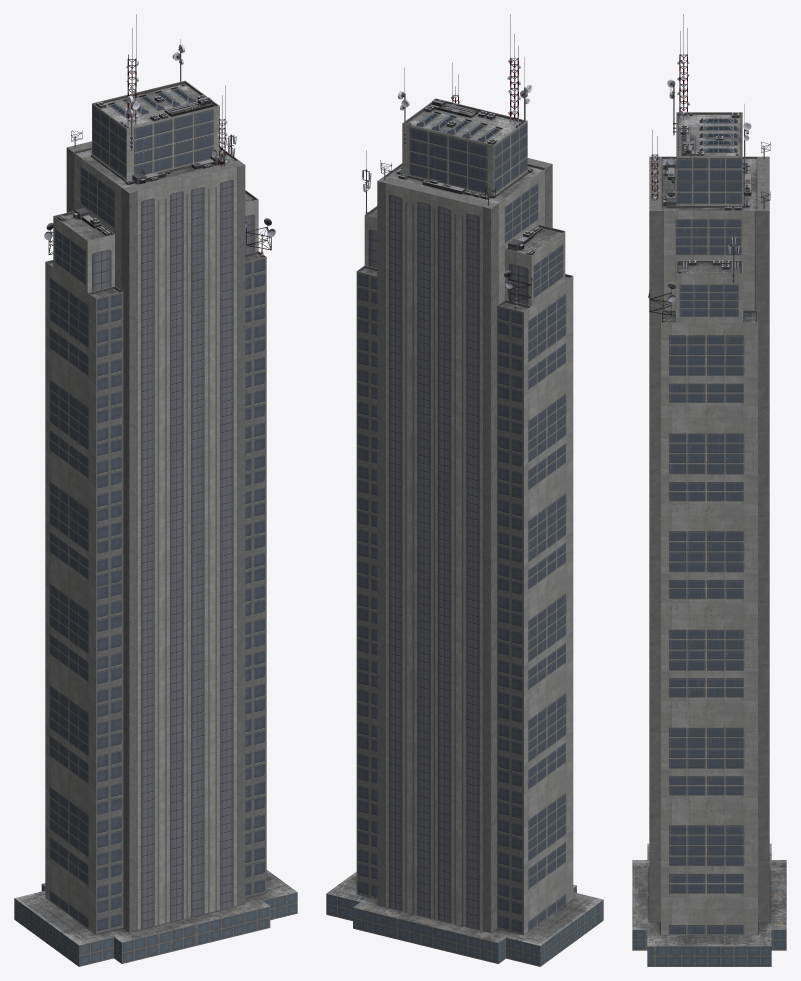
The model's file is building_07.obj.
3 renders of one model, left to right at view 1: azimuth 30°, elevation 25°; view 2: azimuth 150°, elevation 25°; view 3: azimuth 270°, elevation 25°, orthographic. The views are drawn at different scales.
Parts seen in each view (by area): view 1: Box01, Object01, Object02; view 2: Box01, Object01, Object02; view 3: Box01, Object01, Object02.
Part boxes in pixels (x1,y1,x2,y2): Box01: [14, 80, 297, 966]; Object01: [44, 83, 275, 257]; Object02: [108, 14, 236, 169]; Box01: [326, 100, 603, 966]; Object01: [380, 98, 542, 309]; Object02: [362, 14, 531, 213]; Box01: [632, 112, 786, 966]; Object01: [648, 112, 770, 322]; Object02: [650, 14, 751, 283].
Size of the model in its own units: 36.47 by 147 by 23.19.
Materials: 3 (3 with a texture image).
